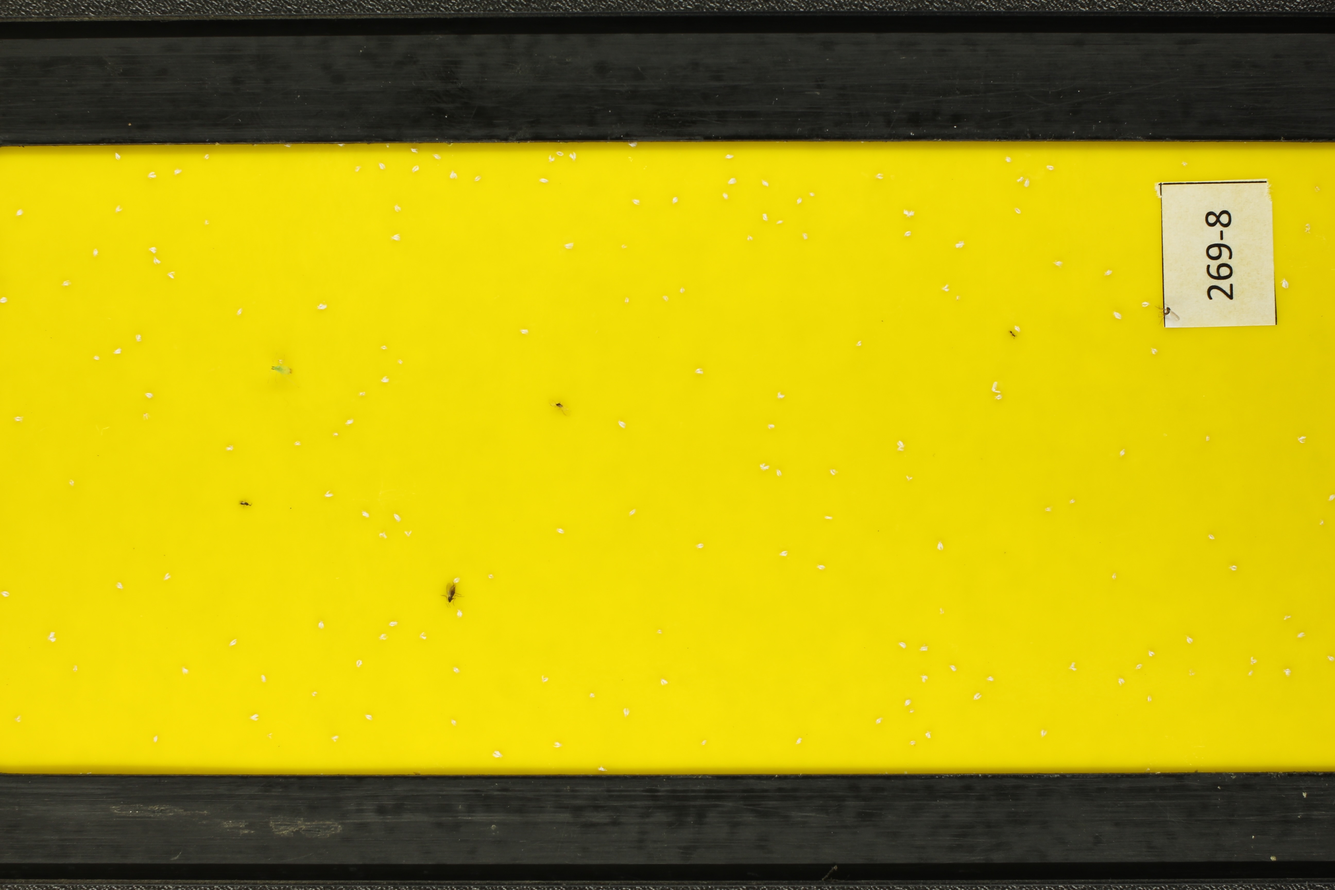MR: (260, 348, 303, 391)
WF: (158, 566, 178, 585), (106, 578, 133, 592), (1292, 429, 1309, 449), (311, 297, 330, 314), (407, 158, 424, 177), (770, 388, 793, 402), (43, 627, 60, 645), (389, 199, 404, 218), (560, 238, 579, 253), (1048, 255, 1067, 269), (142, 167, 158, 183), (143, 388, 160, 403), (758, 176, 773, 193), (1279, 274, 1293, 292), (948, 238, 967, 251), (256, 669, 271, 685), (764, 417, 778, 434), (319, 488, 337, 501), (628, 193, 643, 208), (726, 173, 741, 188), (1100, 264, 1115, 279), (178, 663, 193, 678), (1065, 658, 1080, 673), (171, 165, 187, 179), (349, 161, 365, 175), (1147, 344, 1163, 358), (375, 631, 391, 645), (58, 276, 75, 289), (614, 418, 631, 431), (114, 199, 126, 217), (901, 207, 919, 219), (131, 329, 145, 344), (13, 412, 28, 426), (389, 230, 403, 245), (1110, 308, 1124, 323), (329, 732, 343, 747), (757, 460, 772, 474), (88, 246, 104, 259), (448, 168, 461, 184), (989, 380, 1005, 393), (225, 636, 241, 649), (488, 748, 504, 761), (1225, 562, 1241, 575), (1182, 631, 1195, 647), (373, 160, 390, 172), (690, 365, 707, 377), (246, 712, 263, 724), (233, 302, 247, 316), (901, 225, 915, 239), (937, 281, 952, 294), (393, 508, 406, 523), (351, 656, 366, 669), (1247, 655, 1262, 668), (224, 442, 240, 454), (566, 148, 579, 162), (1010, 204, 1024, 217), (969, 690, 983, 703), (1280, 665, 1294, 678), (12, 207, 27, 219), (799, 229, 811, 244), (1280, 613, 1295, 625), (1114, 675, 1129, 687), (376, 373, 392, 384), (399, 528, 415, 539), (361, 712, 378, 722), (431, 150, 444, 163), (668, 192, 681, 205), (933, 539, 946, 552), (355, 388, 369, 400), (0, 589, 14, 601), (315, 618, 329, 630), (538, 672, 550, 686), (626, 139, 640, 151), (776, 547, 790, 559), (109, 345, 124, 356), (144, 243, 159, 254), (1137, 299, 1152, 310), (388, 618, 403, 629), (1184, 668, 1199, 679), (111, 150, 124, 162), (759, 209, 771, 222), (65, 477, 78, 489), (448, 717, 461, 729), (550, 739, 563, 751), (621, 706, 633, 719), (1293, 629, 1306, 641), (152, 731, 163, 745), (13, 712, 24, 726), (454, 606, 465, 620), (699, 736, 710, 750), (792, 735, 806, 746), (1143, 693, 1157, 704), (290, 439, 305, 449), (164, 270, 179, 280), (536, 175, 551, 185), (1203, 431, 1213, 446), (359, 509, 374, 519), (0, 296, 12, 308), (543, 154, 555, 166), (627, 506, 639, 518), (774, 468, 786, 480), (344, 416, 355, 429), (140, 410, 153, 421), (376, 530, 389, 541), (554, 525, 567, 536), (657, 677, 670, 688), (814, 561, 827, 572), (936, 604, 947, 617), (947, 662, 960, 673), (901, 697, 914, 708), (1132, 661, 1145, 672), (199, 152, 213, 162), (148, 256, 162, 266), (808, 189, 818, 203), (1115, 447, 1129, 457), (595, 763, 609, 773), (822, 512, 836, 522), (917, 643, 931, 653), (905, 738, 919, 748), (406, 146, 421, 155), (991, 394, 1006, 403), (660, 292, 671, 304), (853, 338, 865, 349), (1045, 161, 1056, 173), (1003, 154, 1014, 166), (70, 662, 81, 674), (418, 630, 429, 642), (450, 664, 462, 675), (903, 473, 915, 484), (897, 639, 908, 651), (919, 673, 931, 684), (1109, 571, 1120, 583), (718, 192, 731, 202), (794, 193, 804, 206), (450, 575, 463, 585), (694, 541, 707, 551), (828, 468, 841, 478), (984, 674, 997, 684), (922, 729, 935, 739), (1037, 728, 1050, 738), (1244, 669, 1257, 679), (519, 325, 530, 336), (587, 690, 598, 701), (743, 232, 755, 242), (472, 173, 484, 183), (775, 215, 785, 227), (1023, 178, 1033, 190), (896, 437, 906, 449), (723, 152, 736, 161), (1304, 221, 1313, 234), (1205, 533, 1218, 542), (396, 357, 407, 367), (201, 217, 212, 227), (266, 731, 276, 742), (1042, 504, 1053, 514), (1325, 654, 1335, 665), (1146, 649, 1157, 659), (485, 572, 497, 581), (1318, 517, 1327, 529), (380, 342, 390, 352), (678, 285, 688, 295), (309, 689, 319, 699), (331, 430, 342, 439), (622, 295, 631, 306), (874, 717, 885, 726), (874, 174, 886, 182), (907, 707, 919, 715), (655, 626, 664, 636), (1068, 497, 1078, 506), (1014, 322, 1022, 333), (1015, 173, 1023, 184), (1327, 492, 1335, 503), (94, 353, 102, 363), (555, 149, 565, 157), (620, 242, 628, 250), (1180, 160, 1189, 167), (1314, 184, 1321, 192), (955, 294, 961, 302)
